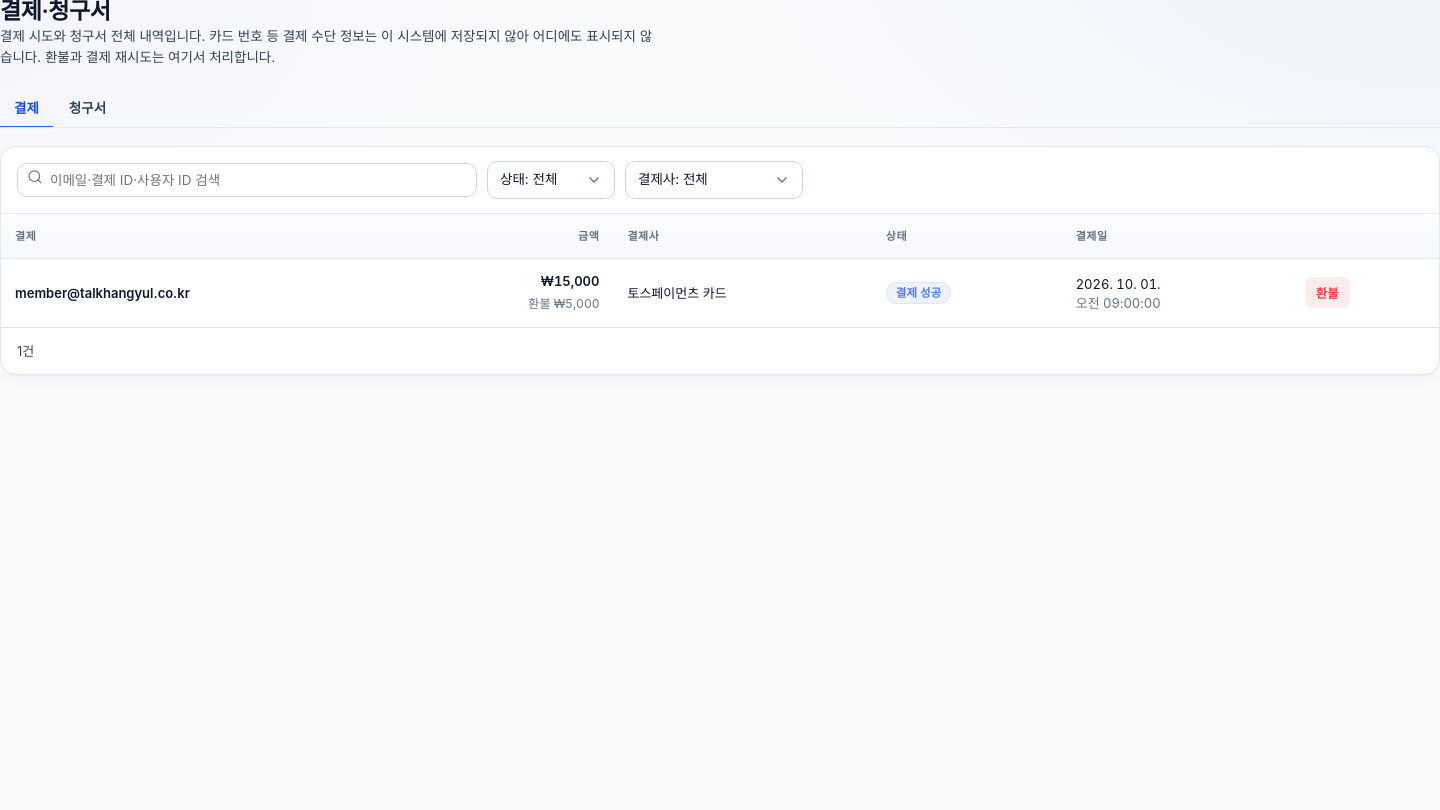
Test: the refund dialog › refunds the remaining amount after a confirmation, without showing ids
Click the button "환불".
click(1327, 293)  # box [1305,277,1350,308]
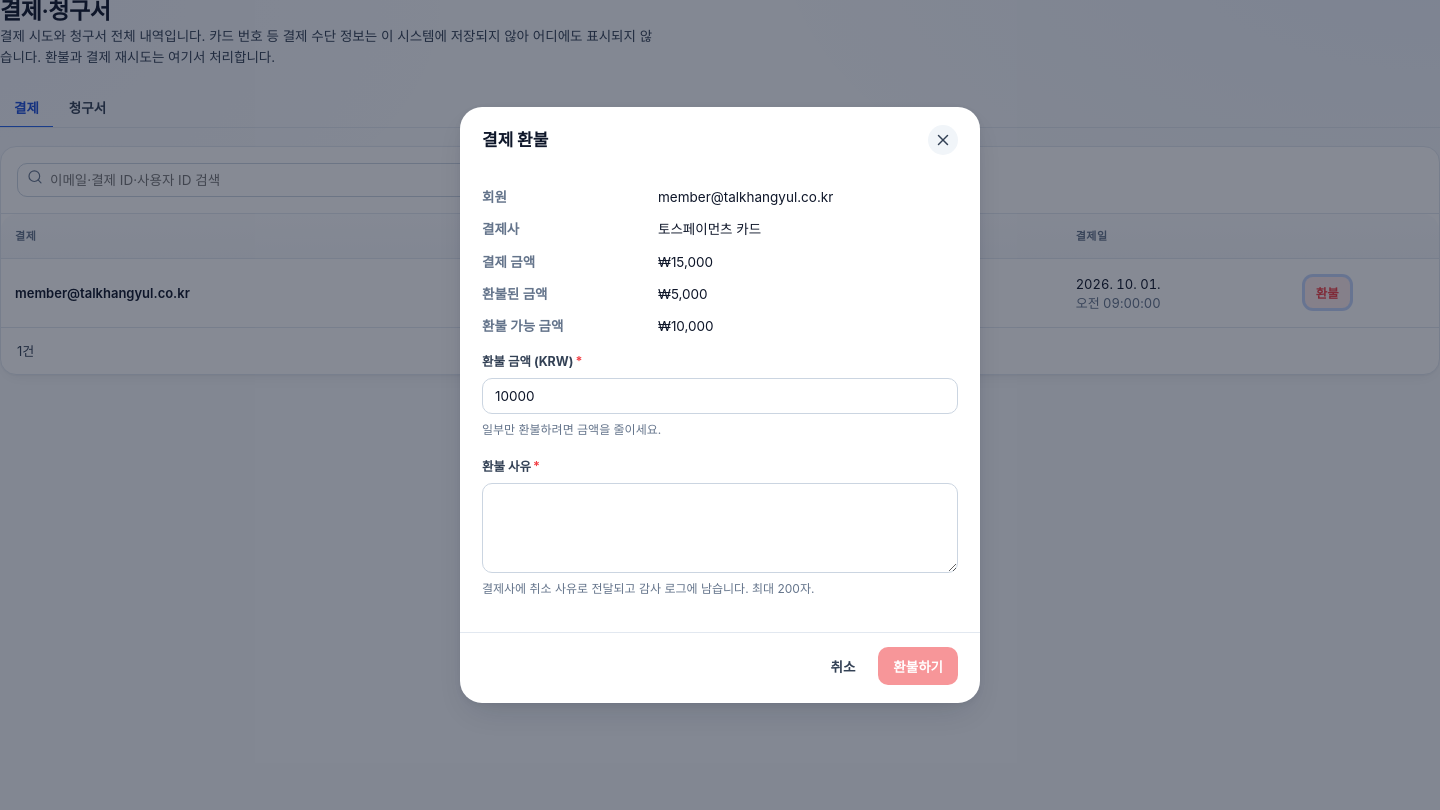
Now the field labelled "환불 금액" holds "10000", box [482,378,958,414]
Now the button "환불하기" is disabled, box [878,647,958,685]
Type "중복 결제" into the text box labelled "환불 사유".
click(720, 528); type("중복 결제")  # box [482,483,958,573]
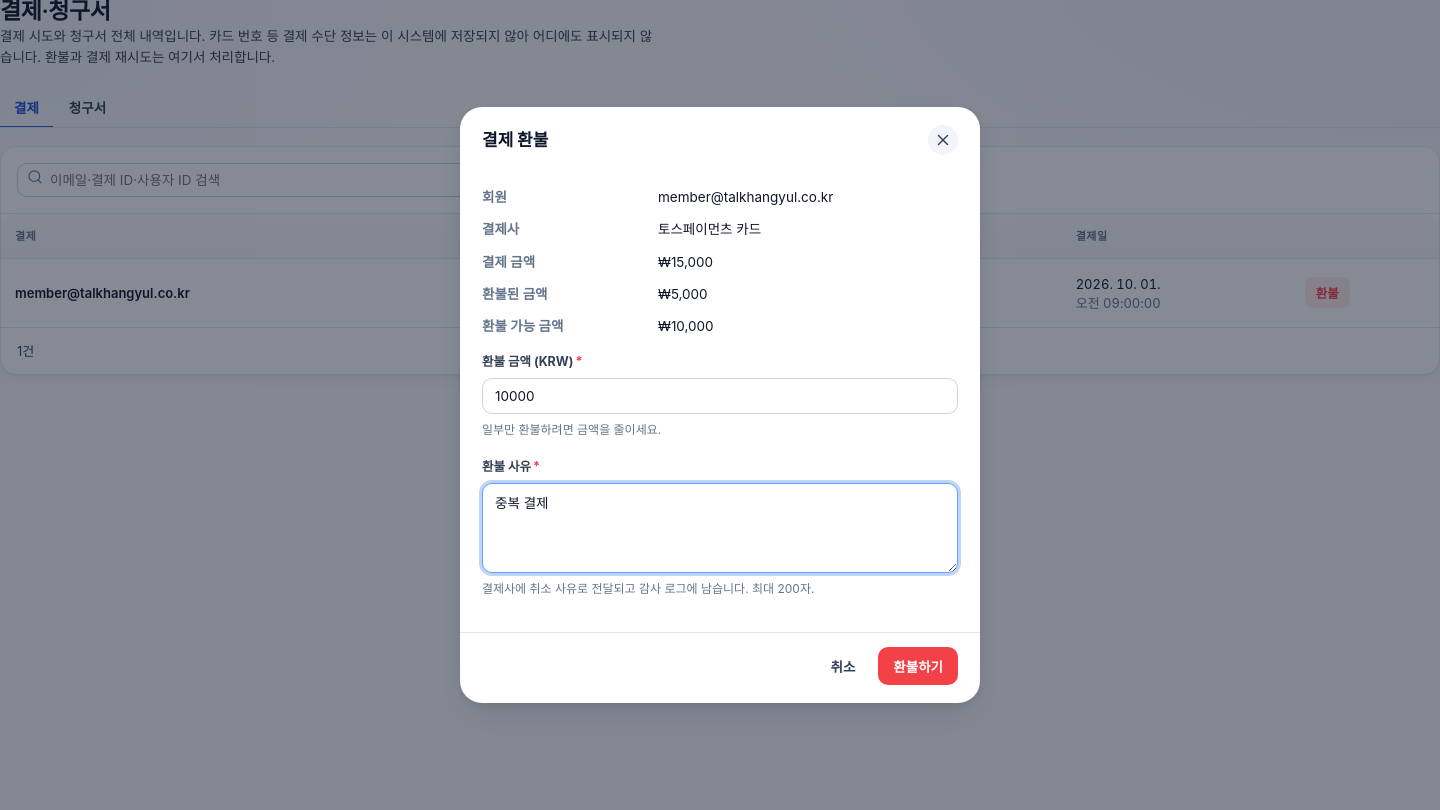
Click the button "환불하기".
click(918, 666)  # box [878,647,958,685]
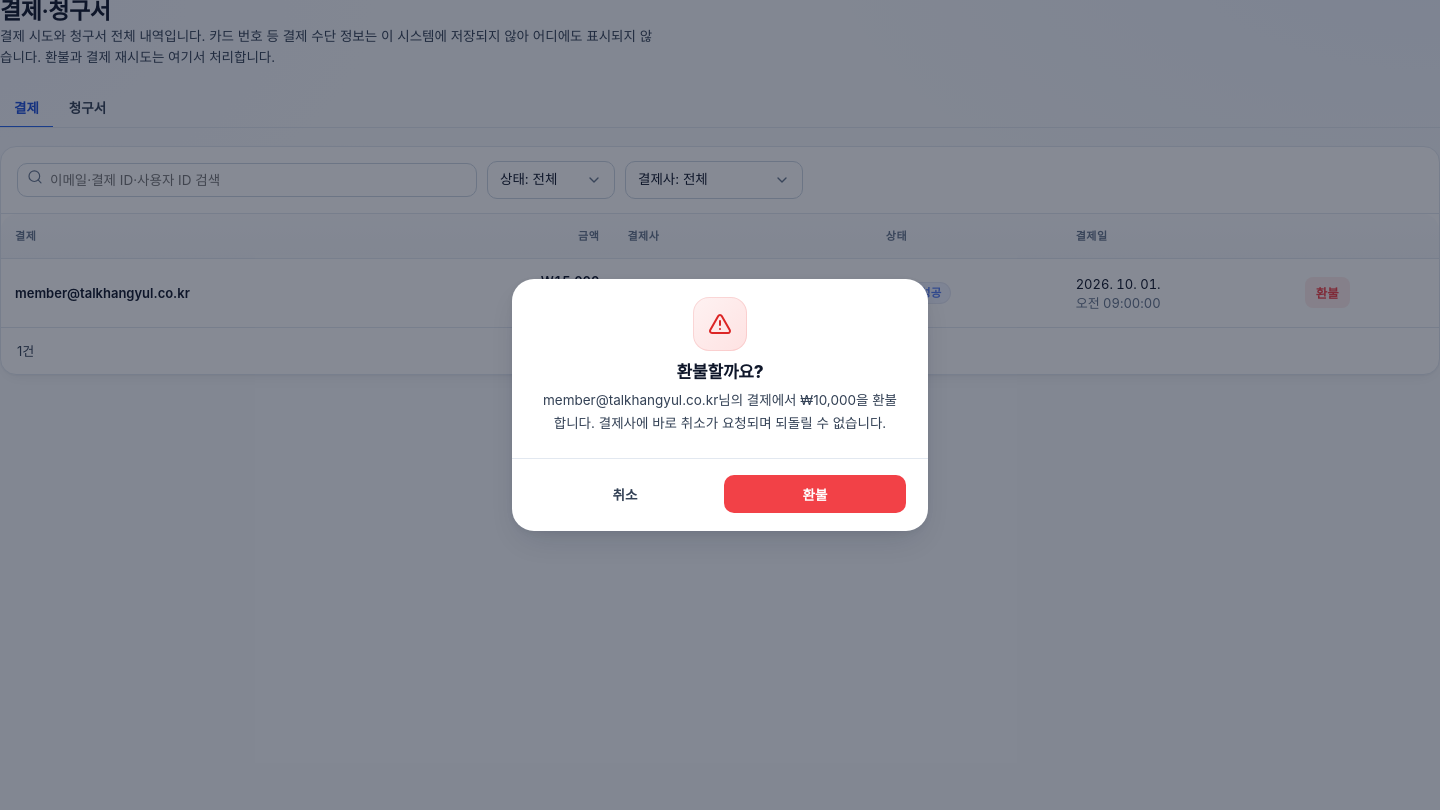
Now the dialog "환불할까요?" shows "₩10,000", box [543,392,897,431]
Click the button "환불".
click(815, 494)  # box [724,475,906,513]
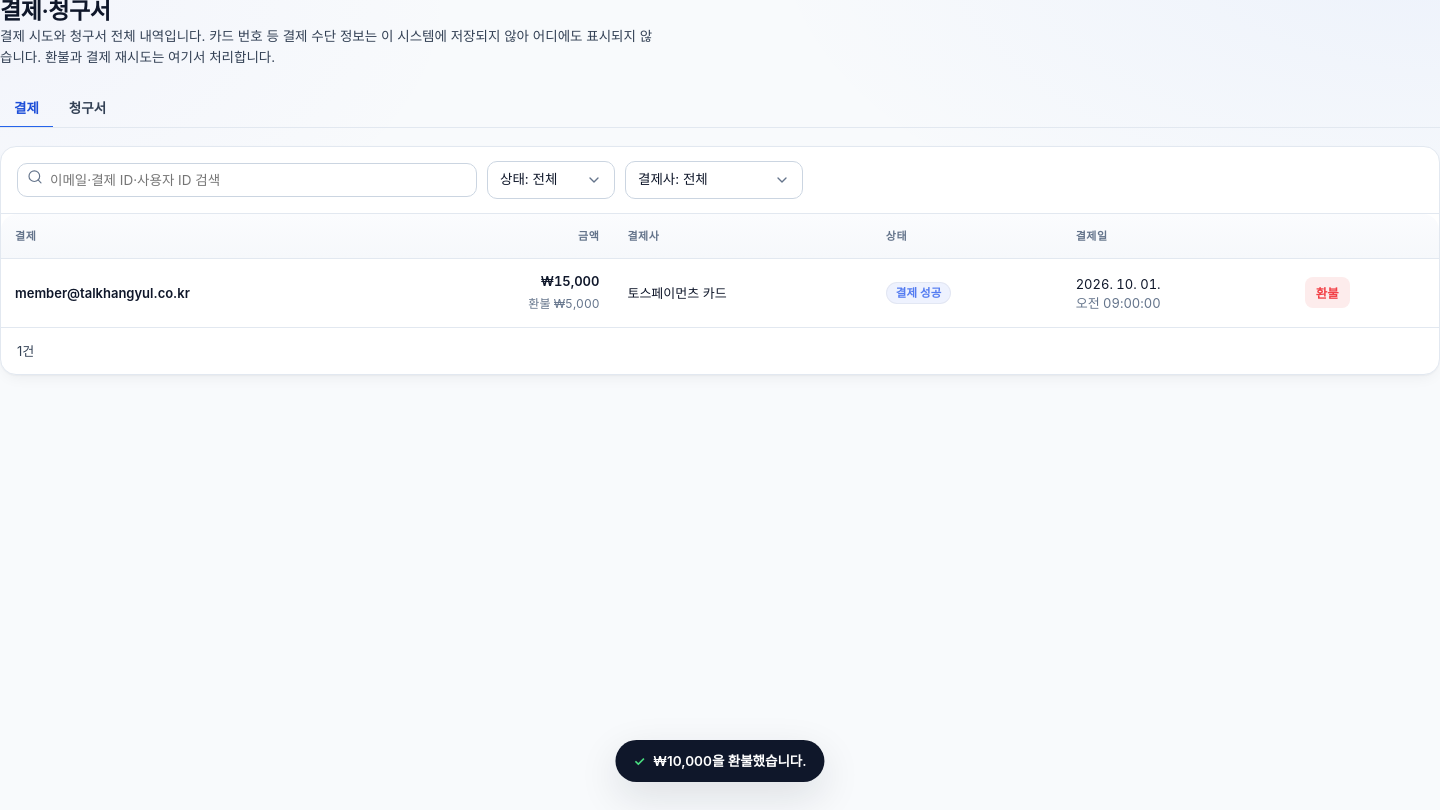
Now the text "₩10,000을 환불했습니다." is shown, box [653,753,807,769]
